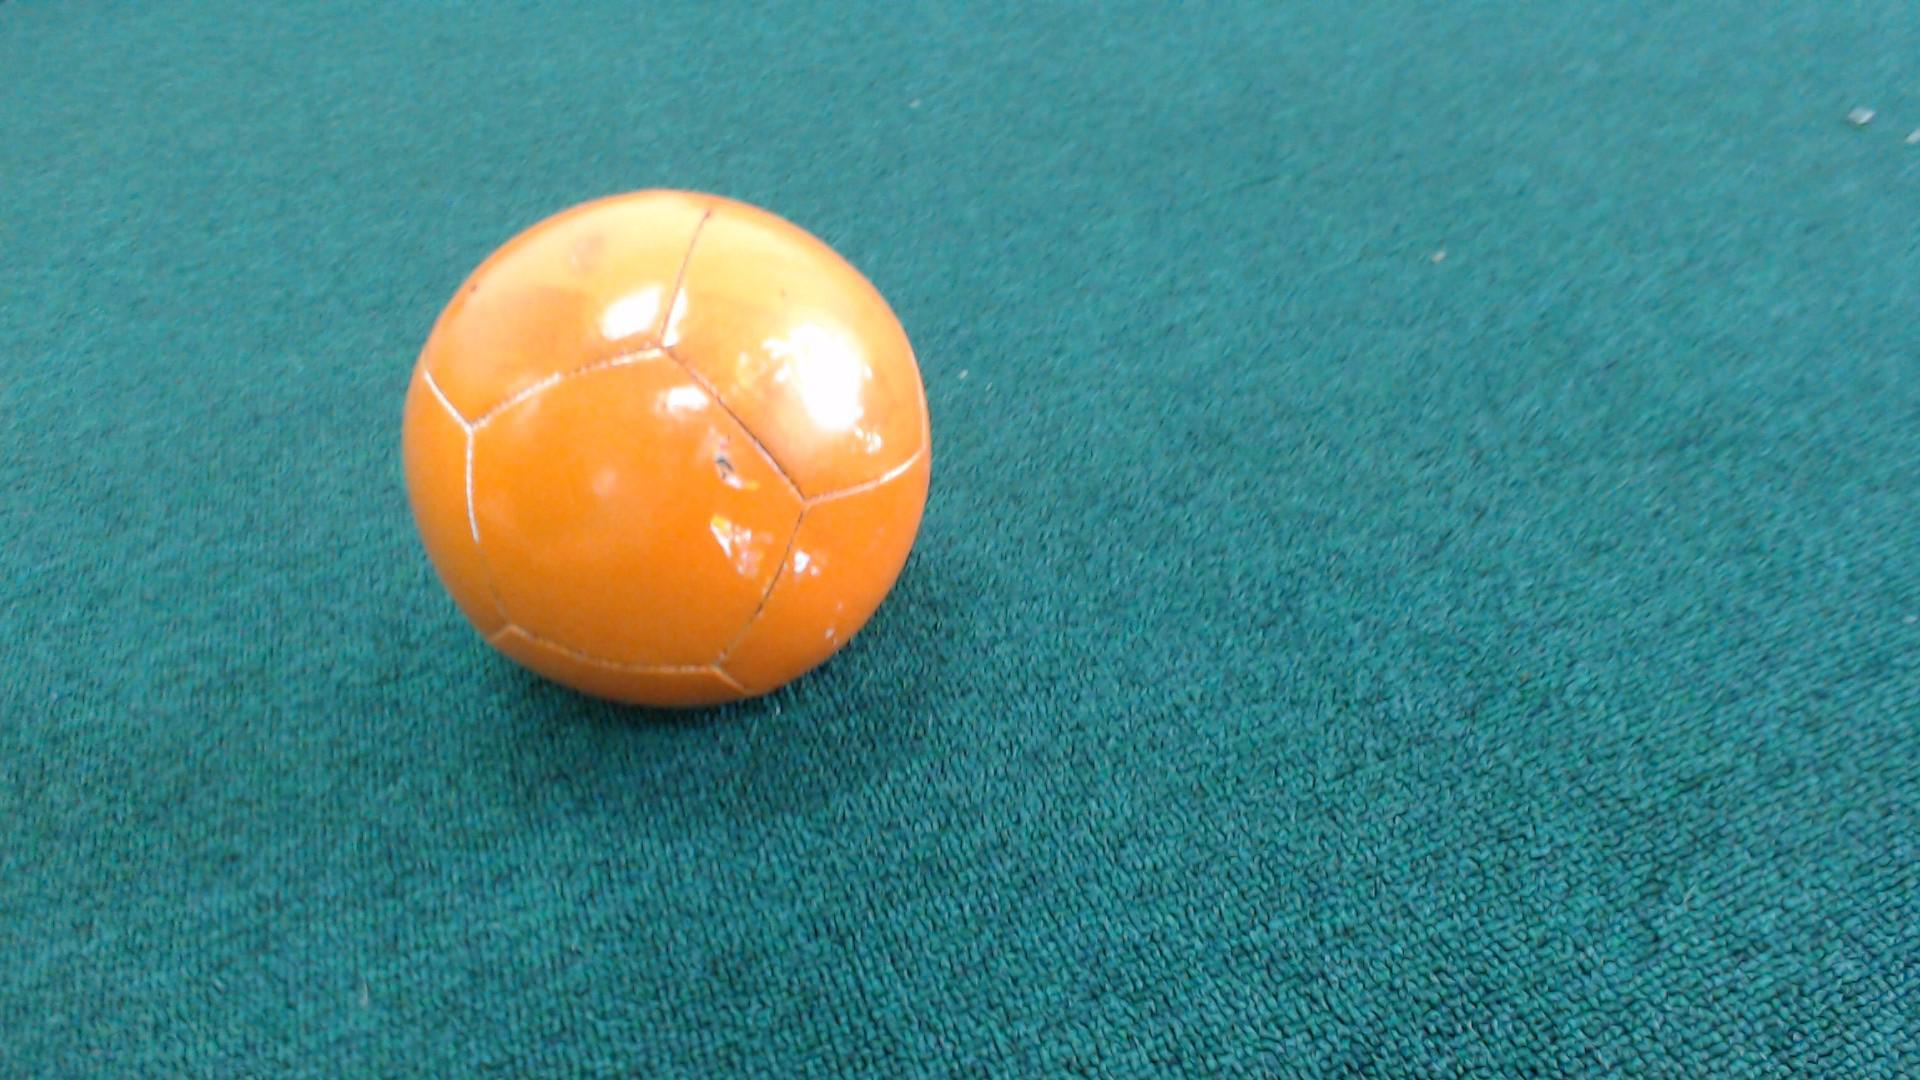bola: (375, 175, 963, 753)
